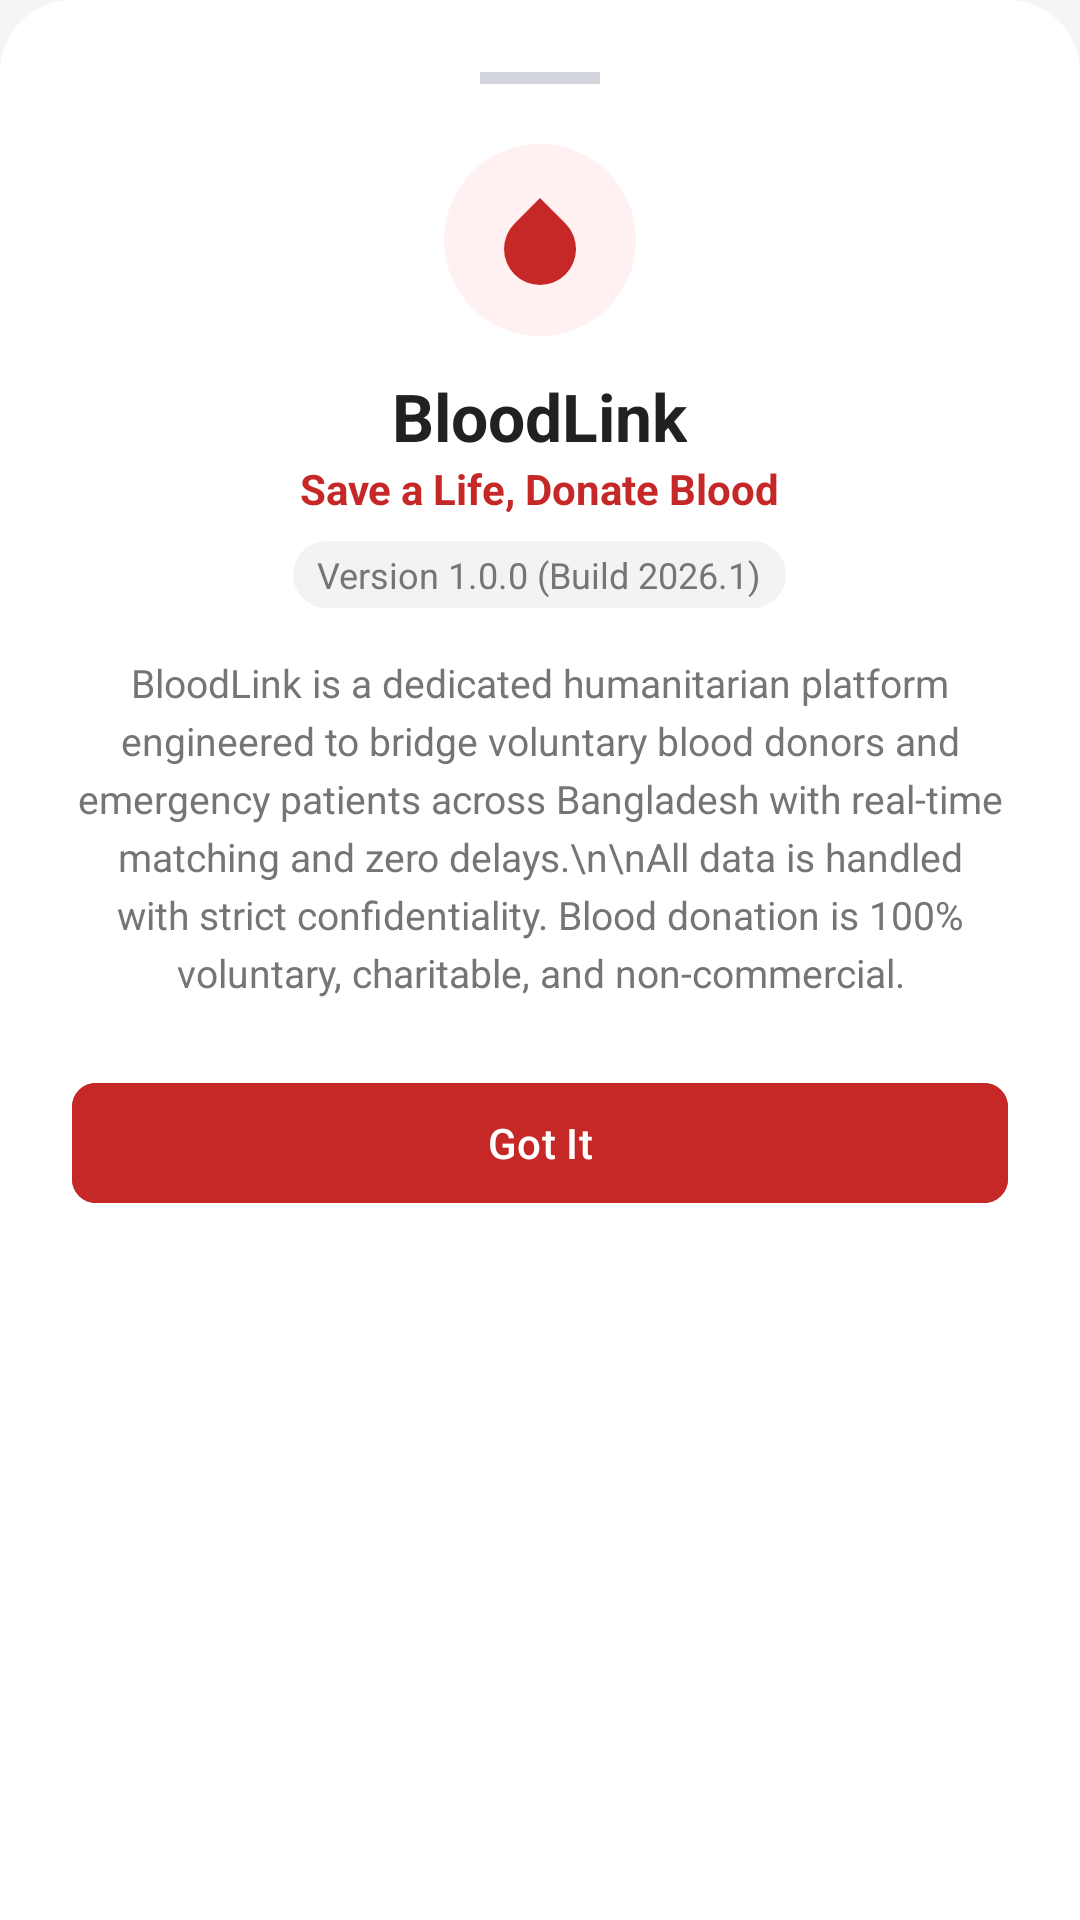

Screen size 1080x1920. Icon name, then its box in pixels as bbox=(x1, y1, x2, y2):
blood drop: bbox=(504, 198, 576, 285)
